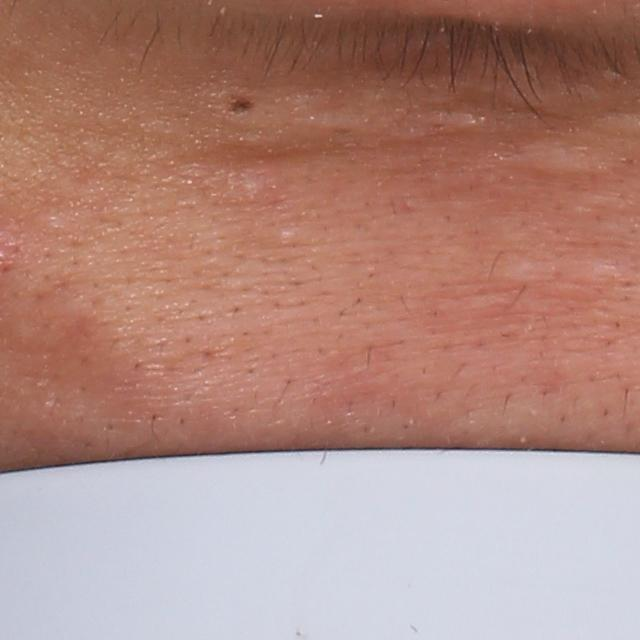comedo: (278, 228, 294, 246)
hypertrophic_scar: (495, 137, 626, 178), (280, 91, 381, 142), (382, 112, 493, 143), (492, 256, 549, 286)
nevus: (217, 91, 259, 121)
